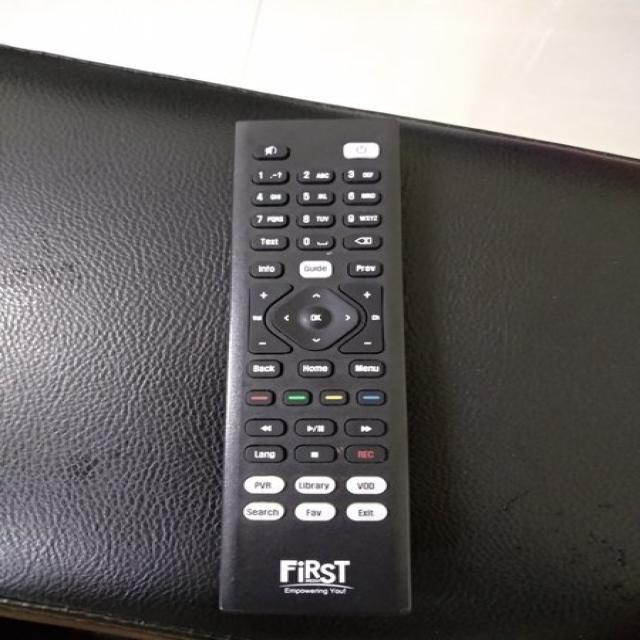remote: (218, 119, 408, 617)
